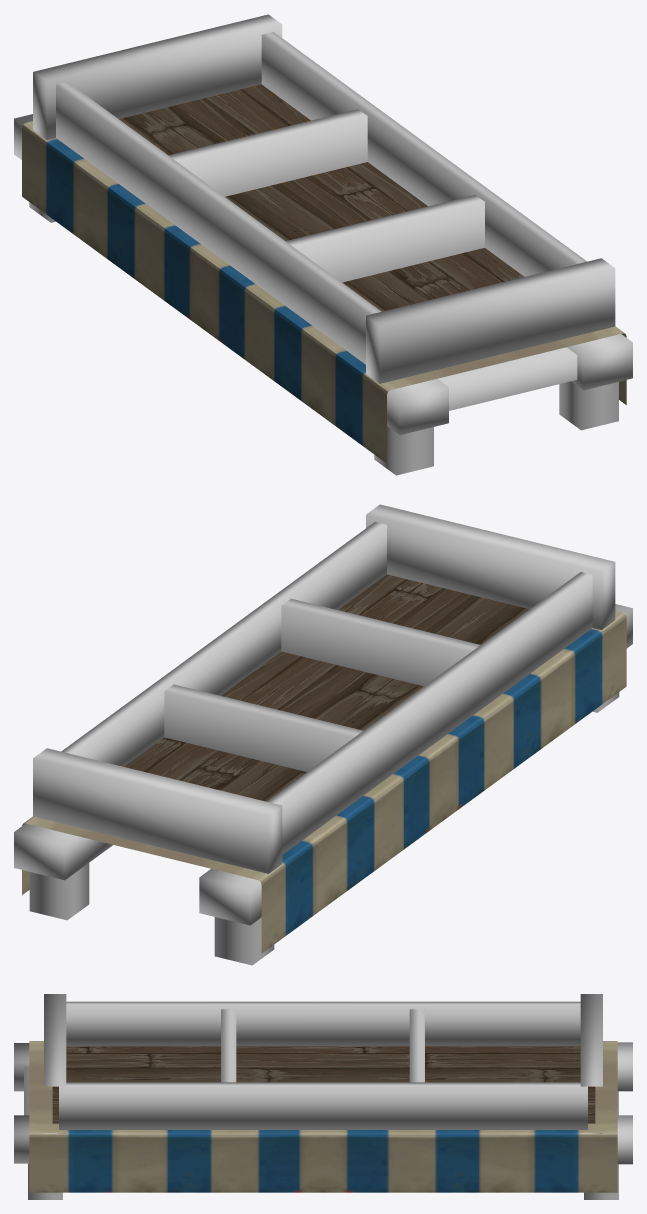
Rendered from cs_zhucheng_huojia_002.FBX.
The picture shows the model from 3 angles, top to bottom: view 1: azimuth 30°, elevation 25°; view 2: azimuth 150°, elevation 25°; view 3: azimuth 270°, elevation 25°; orthographic projection. The views are drawn at different scales.
Parts seen in each view (by area): view 1: cs_zhucheng_huojia_002; view 2: cs_zhucheng_huojia_002; view 3: cs_zhucheng_huojia_002.
Part boxes in pixels (x1,y1,x2,y2): cs_zhucheng_huojia_002: [14, 14, 632, 475]; cs_zhucheng_huojia_002: [14, 504, 632, 965]; cs_zhucheng_huojia_002: [14, 994, 632, 1199].
Size of the model in its own units: 151 by 420 by 86.9.
